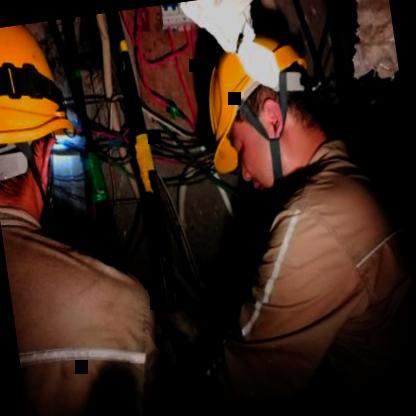helmet: (198, 27, 329, 198), (0, 19, 86, 213)
